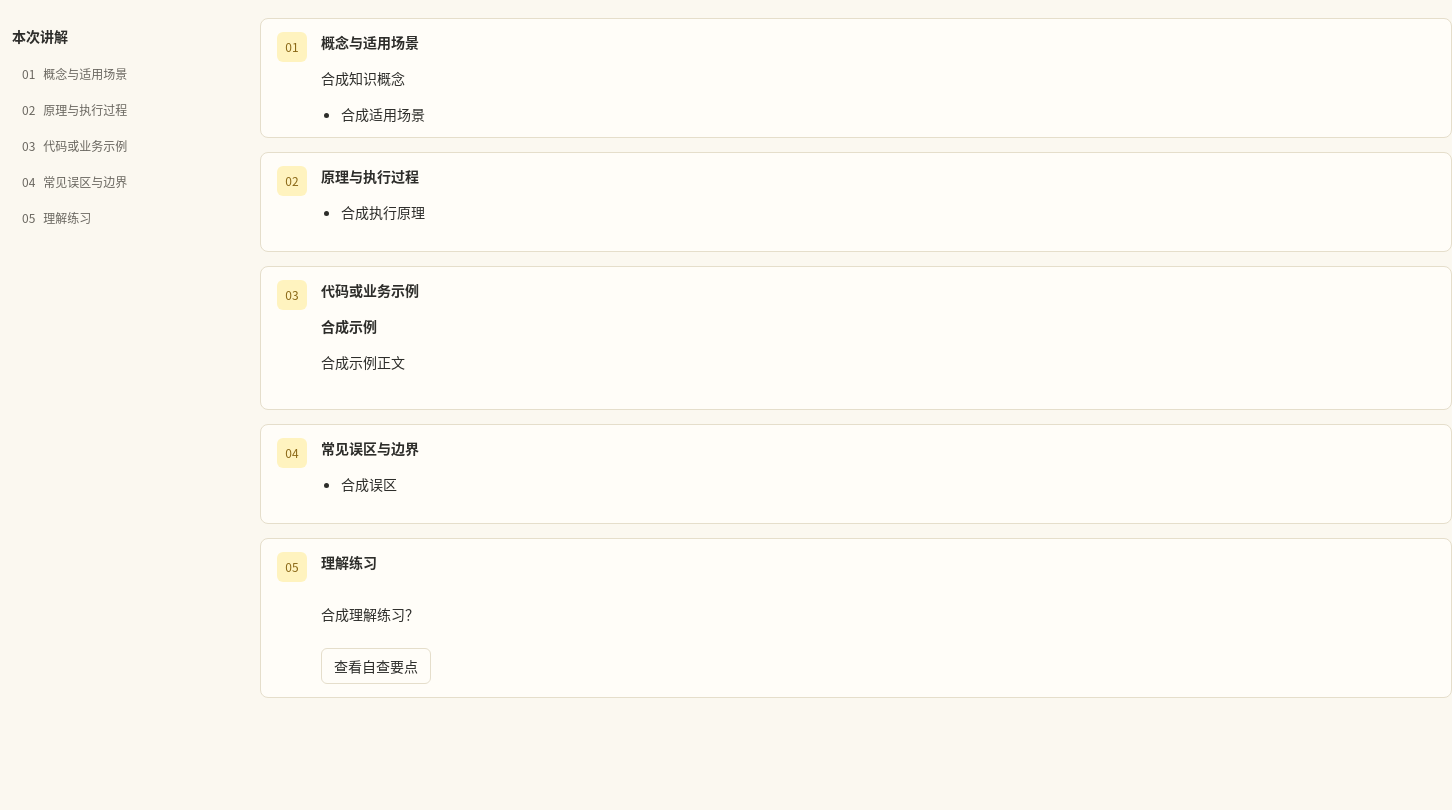
Test case: 五部分保留内容，自查只展开要点且不建设第二套评分
Expected: the text "合成知识概念" is shown, [321,68,405,88]
Expected: the text "合成执行原理" is shown, [341,202,425,222]
Click the button "查看自查要点" at (376, 666), box [321,648,431,684]
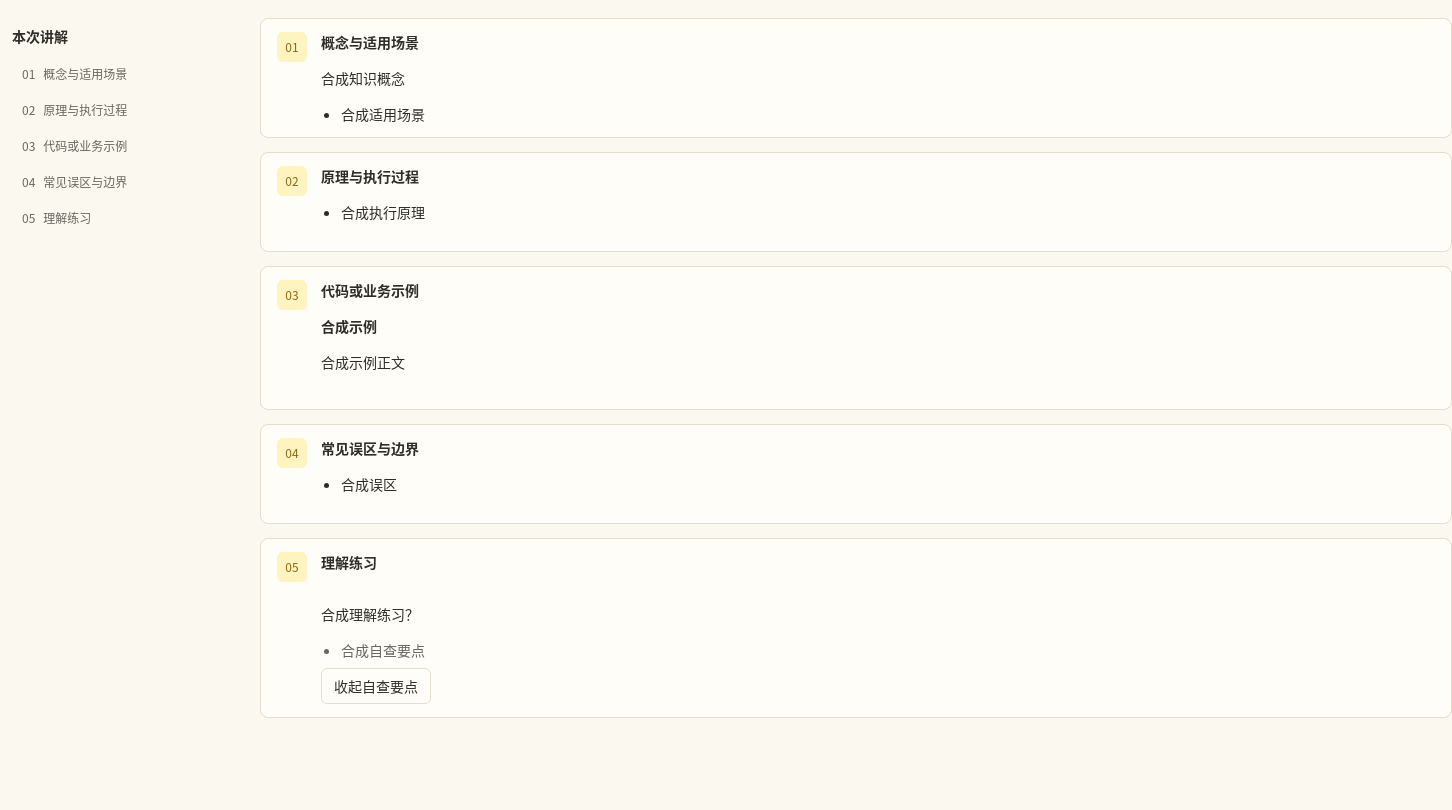
Expected: the list item "合成自查要点" is shown, [341,640,425,660]
Click the button "收起自查要点" at (376, 686), box [321,668,431,704]
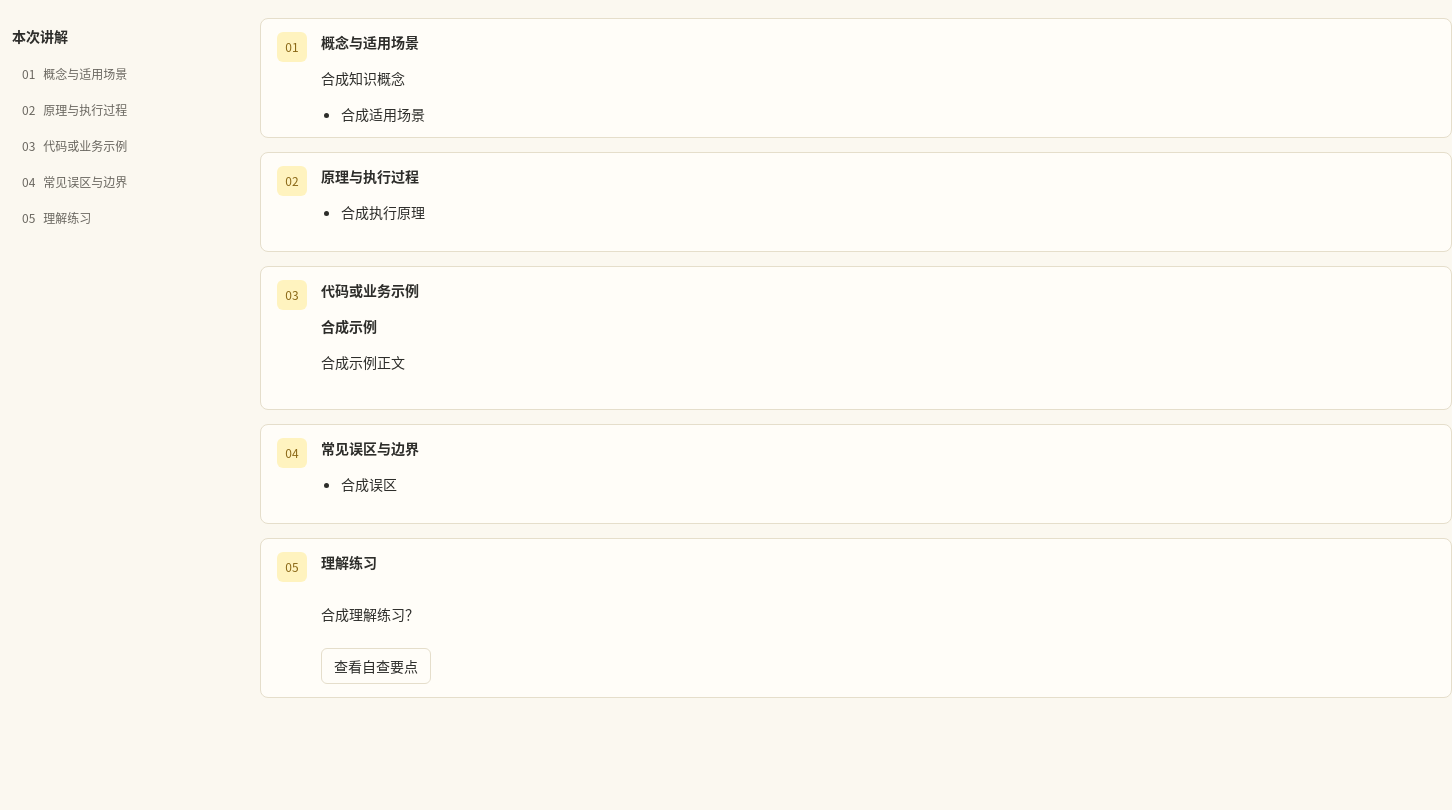
Expected: the list item "合成自查要点" is gone
